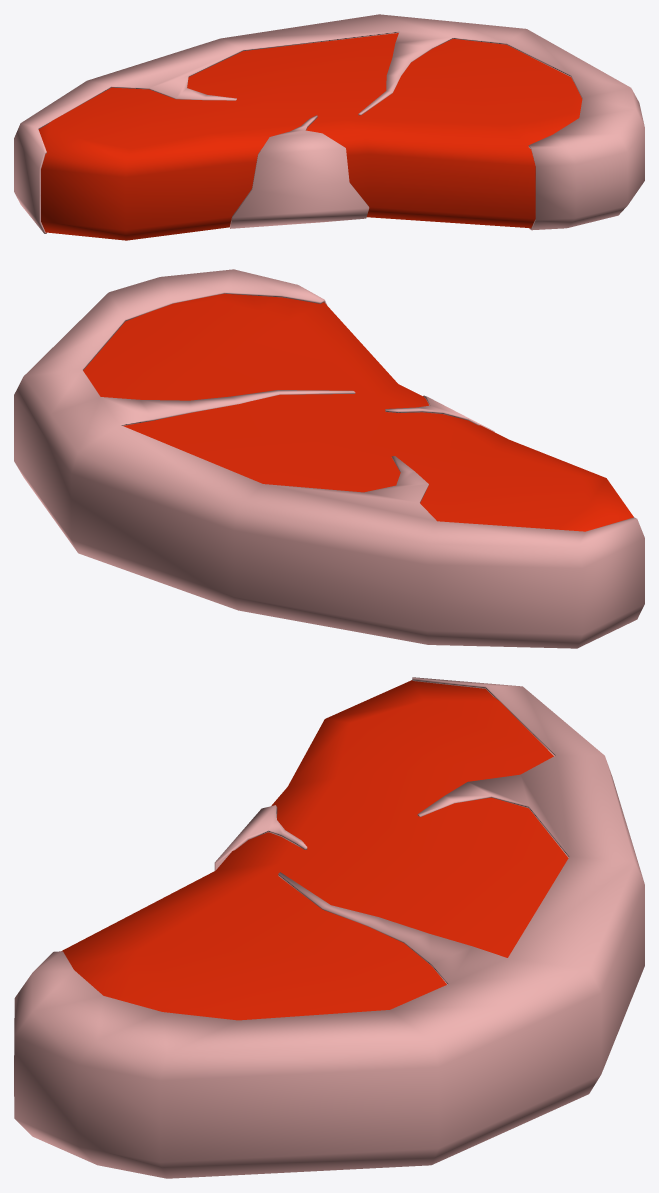
File: Beef.fbx
3 renders of one model, top to bottom at view 1: azimuth 30°, elevation 25°; view 2: azimuth 150°, elevation 25°; view 3: azimuth 270°, elevation 25°, orthographic. The views are drawn at different scales.
Visible parts, largest first — view 1: Cube.009; view 2: Cube.009; view 3: Cube.009.
Boxes of the visible parts, box(x1,y1,x2,y2) form: Cube.009: box(14, 14, 644, 240); Cube.009: box(14, 269, 644, 648); Cube.009: box(14, 677, 644, 1178).
Bounding box in the file's own units: 299 × 49.37 × 207.
